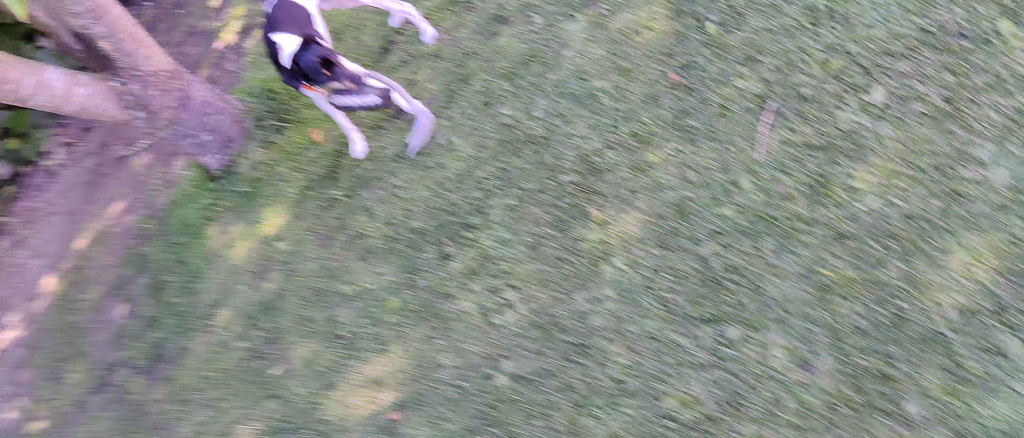Dog: (253, 0, 455, 175)
